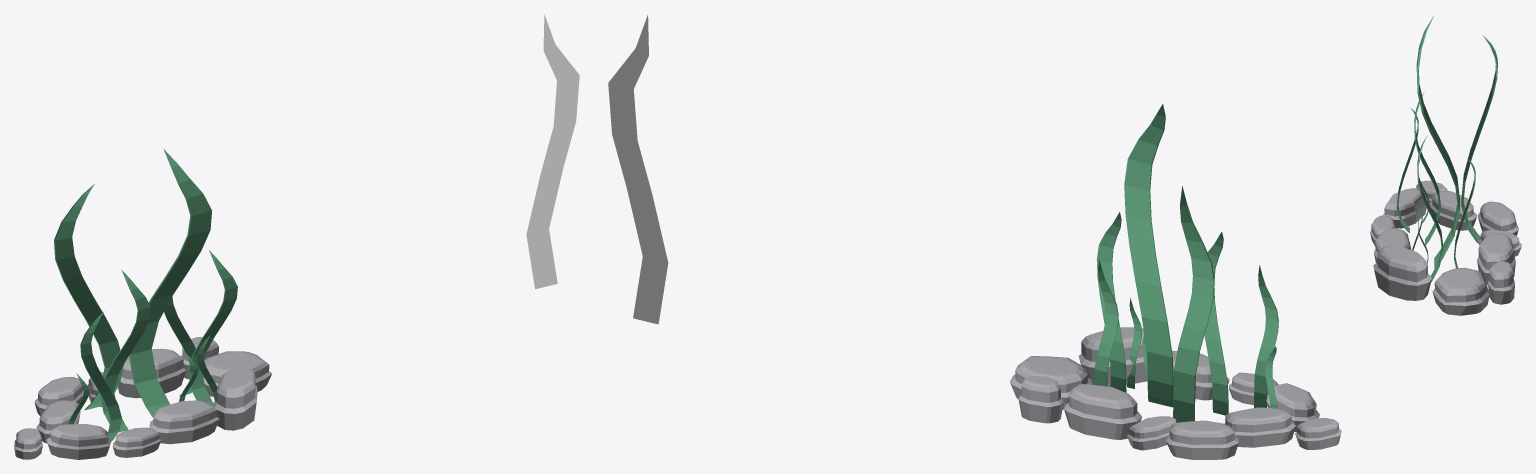
Rendered from Haicao3.FBX.
The picture shows the model from 3 angles, left to right: view 1: azimuth 30°, elevation 25°; view 2: azimuth 150°, elevation 25°; view 3: azimuth 270°, elevation 25°; orthographic projection. The views are drawn at different scales.
Parts seen in each view (by area): view 1: Box249_010, Plane002; view 2: Box249_010, Plane002; view 3: Box249_010.
Boxes of the visible parts, left/top/right/bottom form: Box249_010: left=14, top=149, right=271, bottom=459; Plane002: left=526, top=14, right=579, bottom=289; Box249_010: left=1010, top=104, right=1341, bottom=459; Plane002: left=608, top=15, right=668, bottom=324; Box249_010: left=1370, top=16, right=1521, bottom=315.
Bounding box in the file's own units: 80.24 × 34.78 × 18.68.
